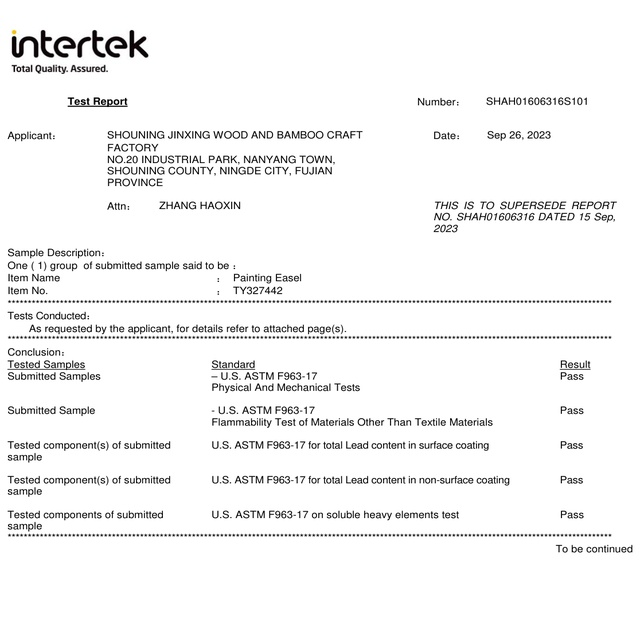intertek: (4, 23, 151, 64)
